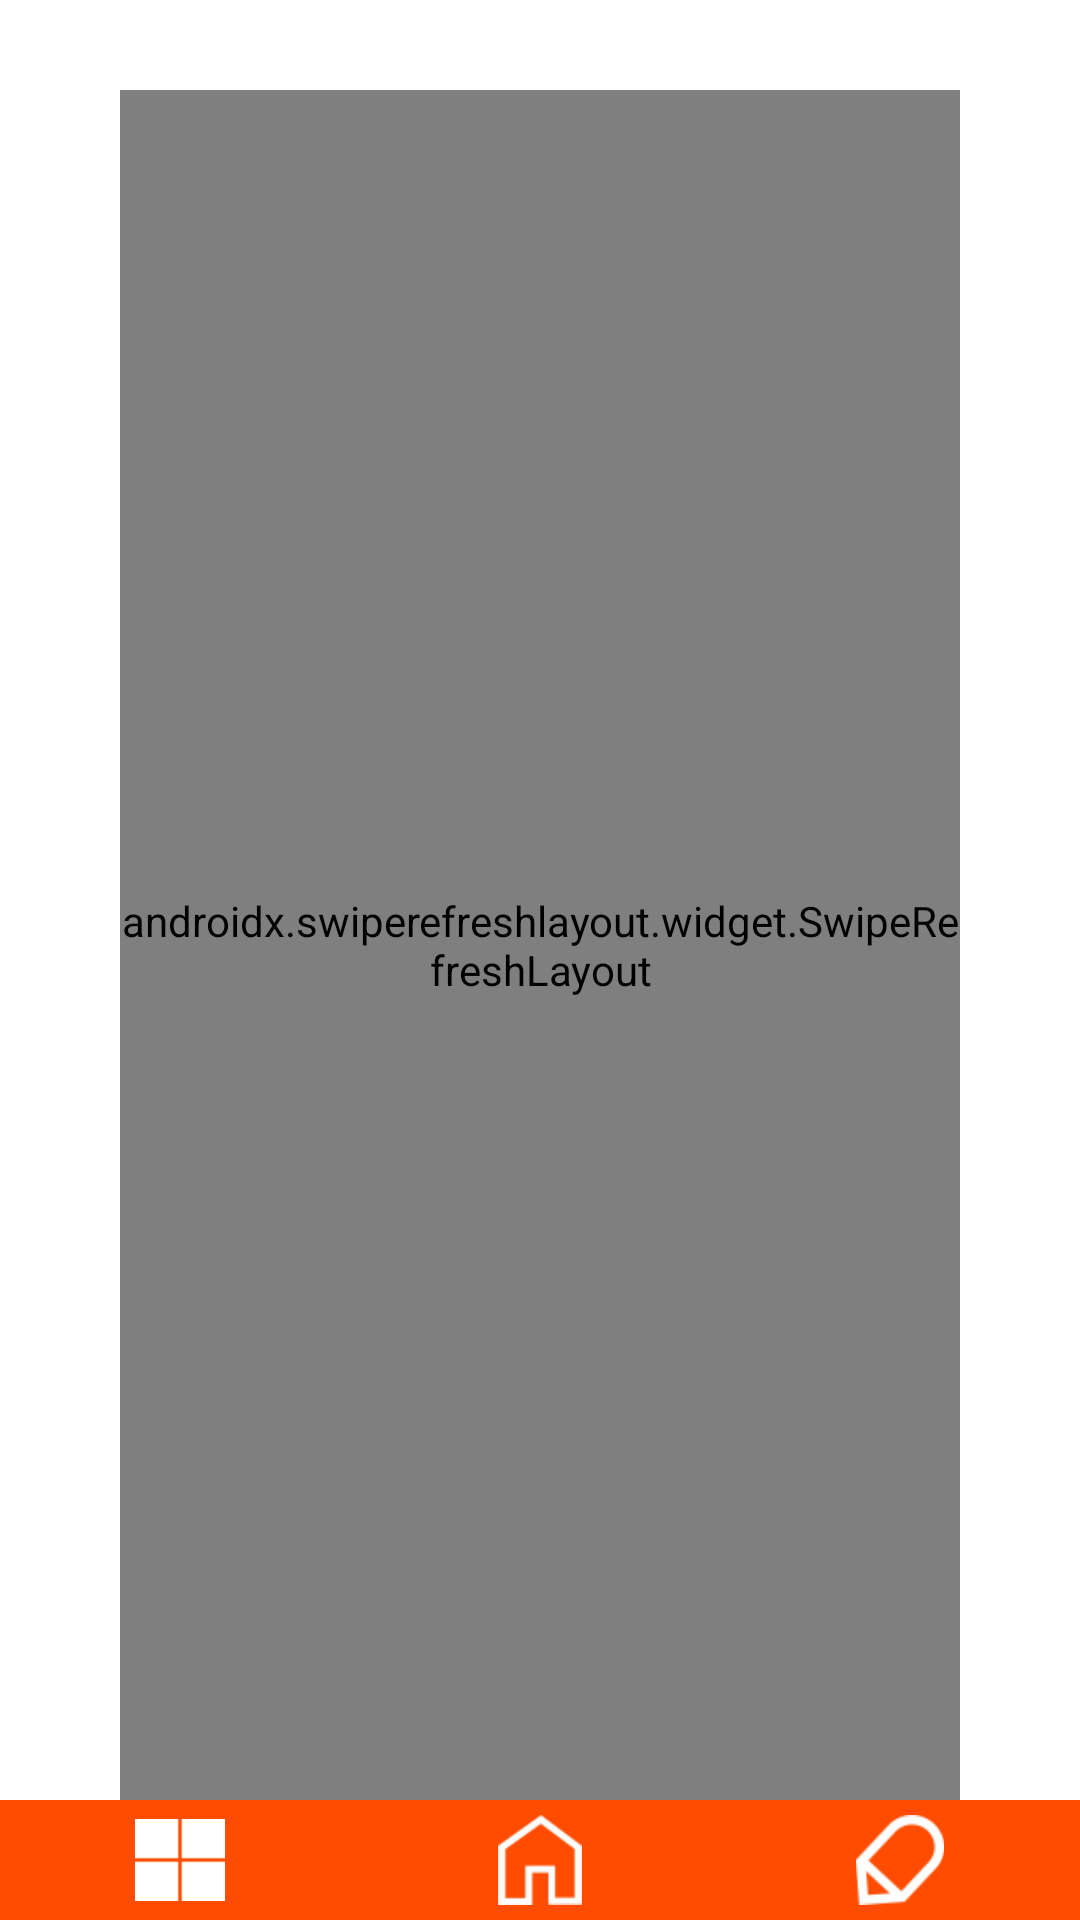

Named icons in this screenshot (1080w x 1920h) and their bounding boxes, (x1, y1, x2, y2):
fe home: (498, 1815, 582, 1905)
fe pencil: (856, 1815, 944, 1905)
str board: (135, 1819, 225, 1901)
